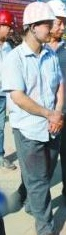boots: (0, 155, 17, 170), (58, 165, 66, 175)
hard-hat: (0, 0, 33, 28)
